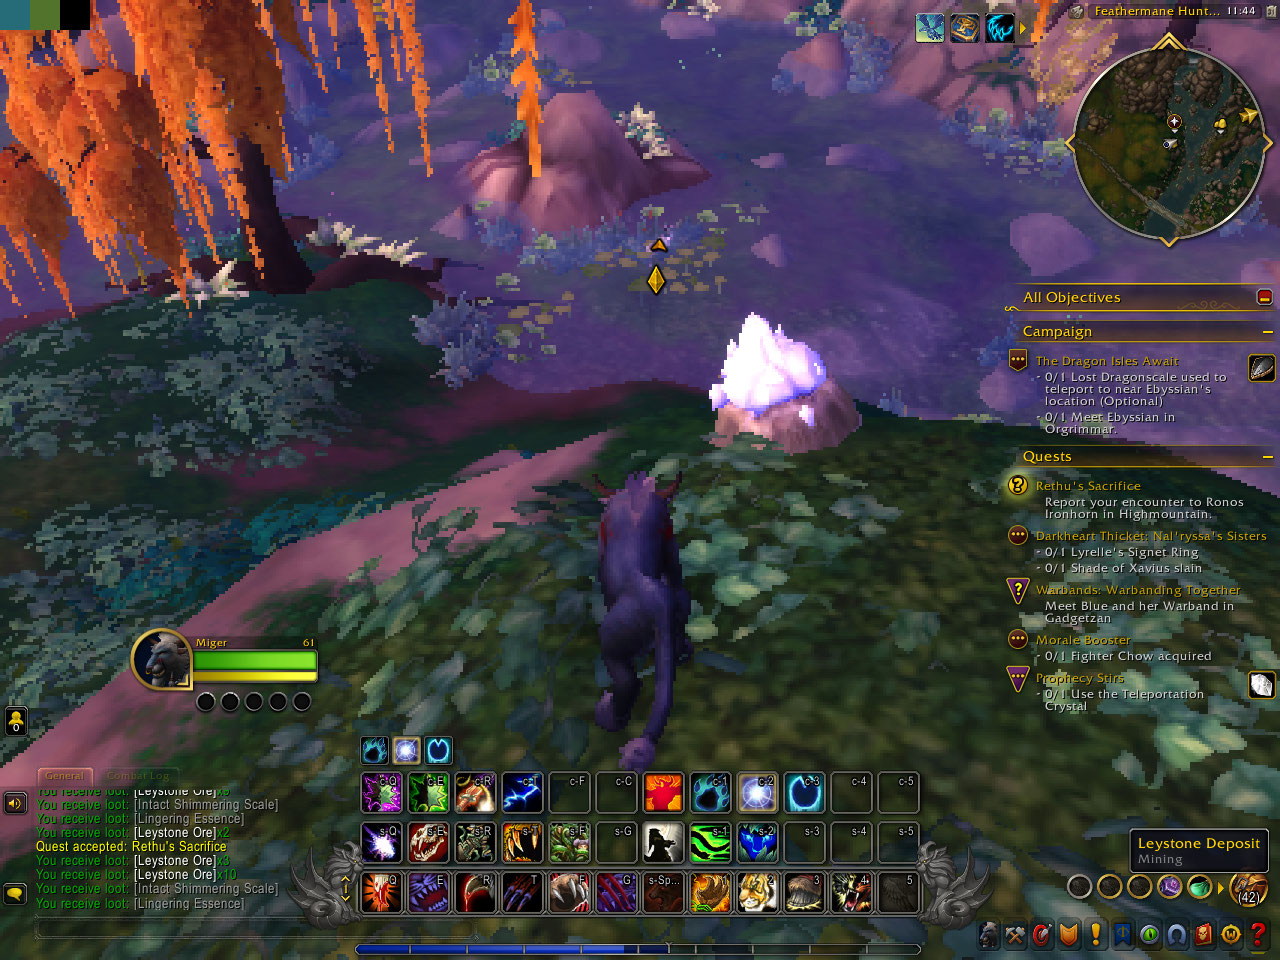ore: (703, 310, 862, 456)
